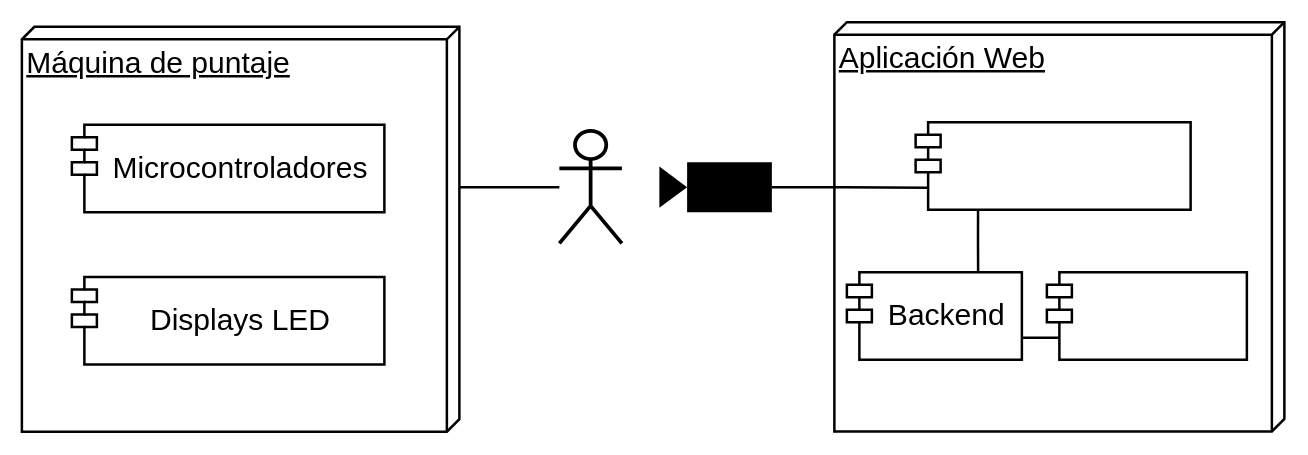
Image size: 1308x455. Some labels were removed from this diagram. The centre of each missing label's shape, as x and y in pixels:
Frontend: the point at 1052,165
Inteligencia Artificial: the point at 1146,315
